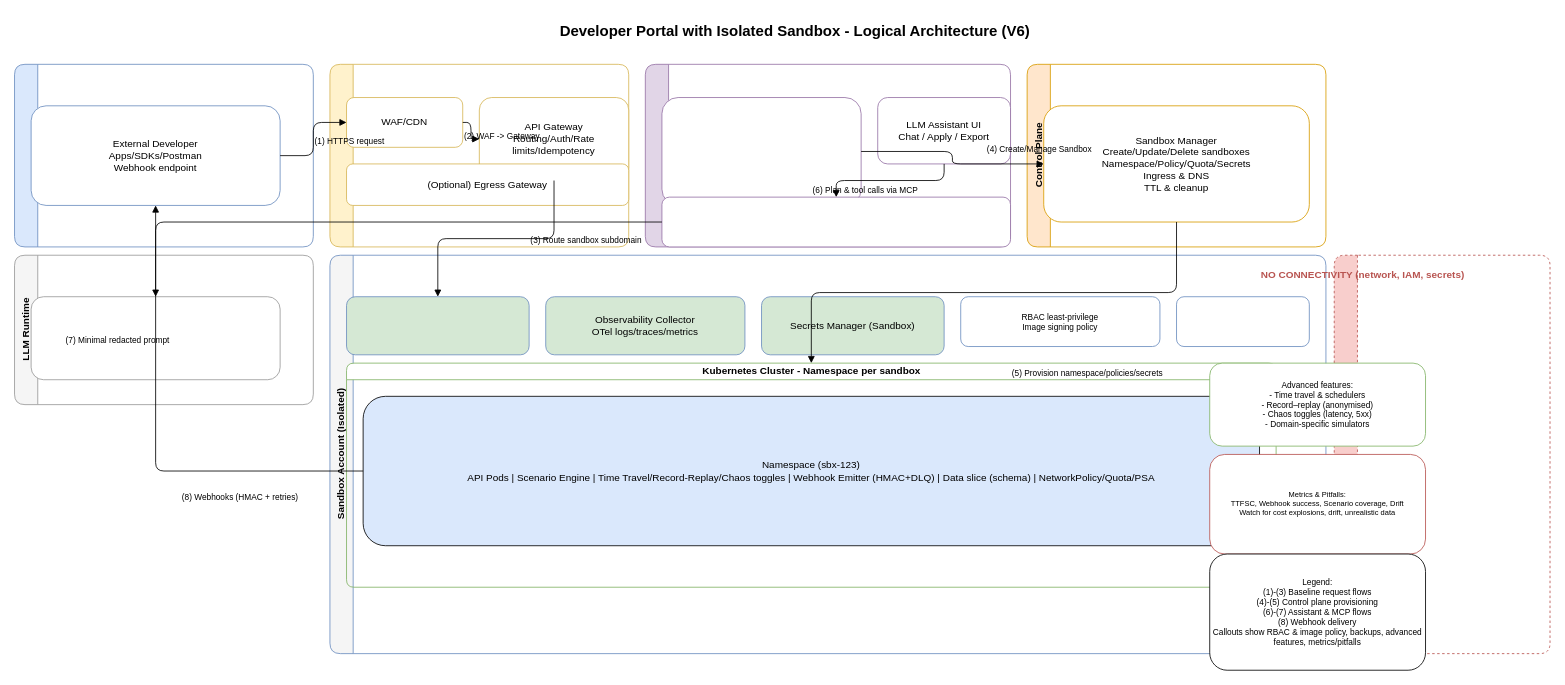
Image size: 1565x685. Some labels were removed from this diagram. The box of each missing label's shape, as (x1, y1, x2, y2) in pixels:
Backups & DR (per-schema restore): (1176, 296, 1309, 347)
Clients: (14, 63, 313, 247)
Developer Portal: (644, 63, 1011, 247)
Edge: (329, 63, 629, 247)
Ingress + DNS *.sbx.api.example.com: (346, 296, 529, 355)
LLM Runtime RAG (spec/docs) Redacted prompts: (30, 296, 280, 380)
MCP Server Session memory Tool routing Allowlist + Redaction Prepare vs Execute: (661, 196, 1011, 247)
Portal Core Docs/Explorer/Apps/Keys/Logs/Replay/Webhook Tester: (661, 97, 861, 205)
Production (separate account/VPC) - NO ROUTE: (1333, 254, 1550, 654)
